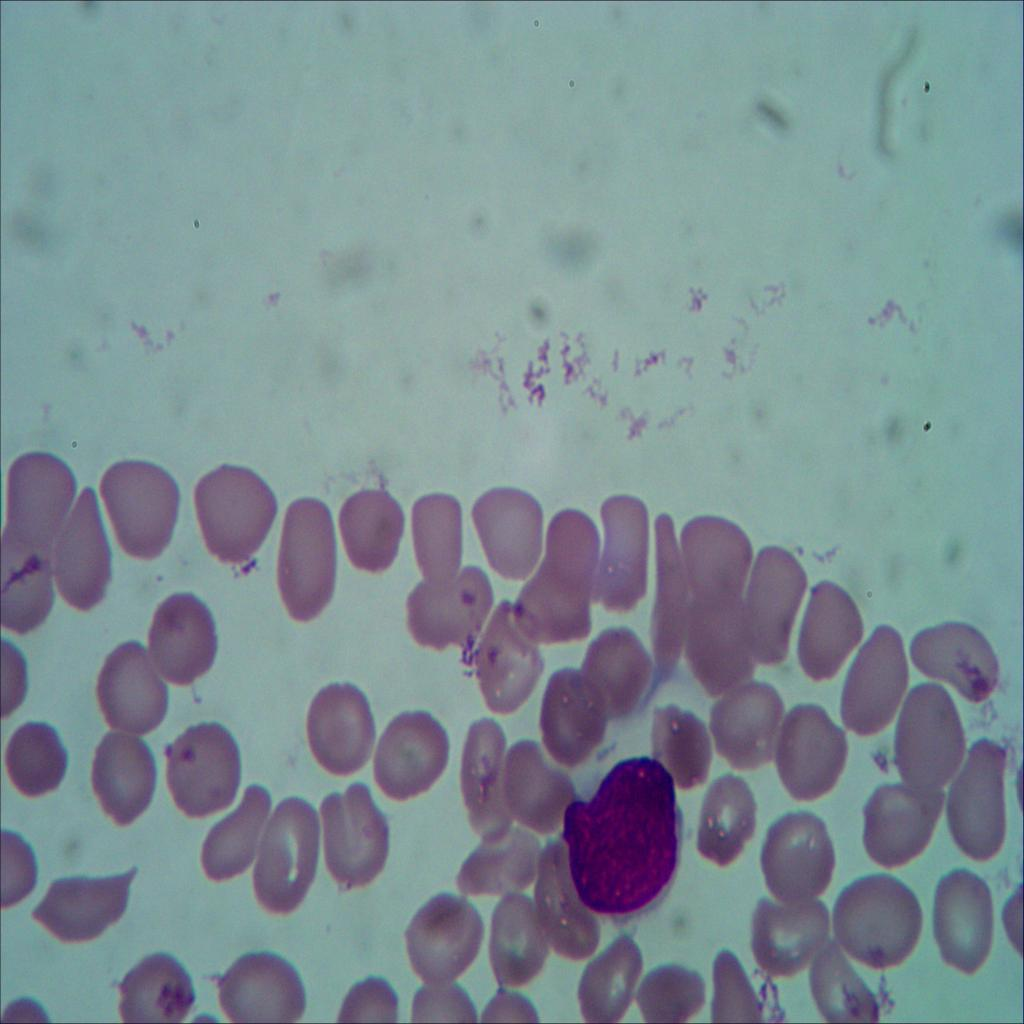Eritrosit: (195, 458, 279, 580), (834, 872, 930, 977), (909, 599, 1000, 709), (272, 490, 341, 633), (836, 620, 918, 739), (366, 696, 451, 810), (753, 802, 845, 906), (459, 596, 545, 706), (925, 860, 1000, 984), (448, 704, 517, 837), (744, 541, 808, 682), (312, 782, 390, 894), (160, 714, 245, 816), (950, 734, 1014, 869), (100, 458, 182, 563), (470, 479, 552, 583), (793, 576, 867, 690), (748, 883, 833, 982), (252, 791, 318, 918), (299, 670, 378, 776), (706, 679, 795, 772), (53, 482, 116, 612), (528, 841, 601, 953), (792, 932, 880, 1024), (403, 566, 497, 652), (146, 585, 224, 688), (216, 938, 308, 1024), (643, 516, 694, 668), (862, 779, 945, 872), (646, 692, 716, 802), (593, 488, 650, 622), (31, 864, 141, 933), (686, 593, 755, 701), (774, 709, 850, 807), (503, 737, 576, 839), (896, 688, 969, 790), (696, 766, 764, 875), (94, 642, 174, 734), (399, 893, 480, 983), (7, 450, 77, 554), (110, 938, 194, 1024), (454, 822, 537, 906), (0, 534, 65, 640), (680, 512, 756, 601), (536, 666, 610, 756), (487, 894, 553, 994), (197, 783, 265, 880), (575, 926, 641, 1024), (514, 560, 590, 645), (587, 626, 654, 722), (338, 484, 402, 582), (0, 717, 76, 799), (90, 726, 157, 818), (408, 493, 466, 585), (631, 953, 706, 1024), (541, 507, 599, 590), (702, 942, 758, 1024)
Limfoblast: (558, 750, 684, 920)
